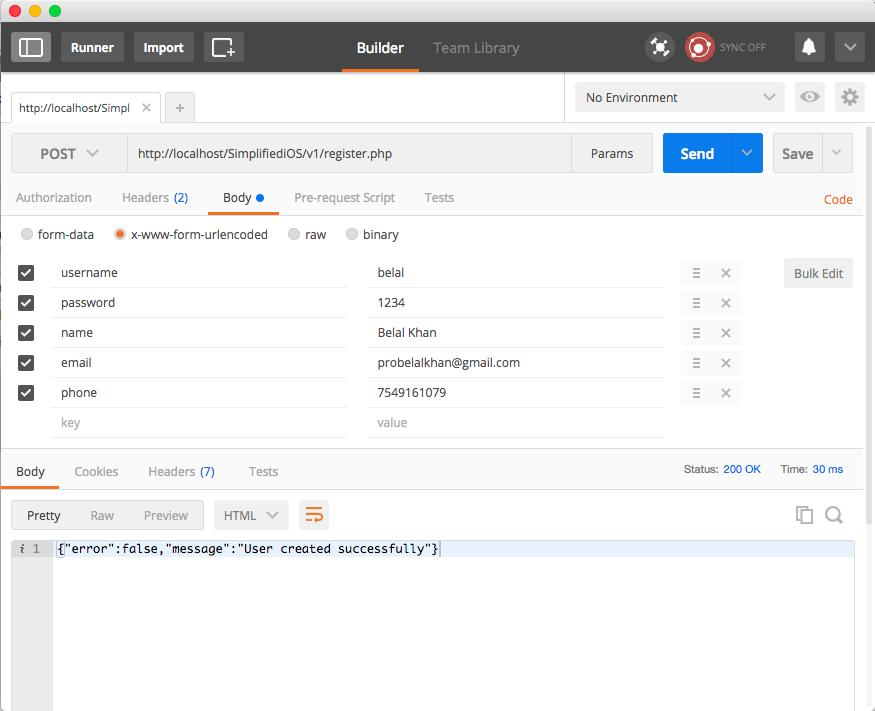button: (656, 127, 739, 179), (768, 252, 862, 294), (766, 120, 826, 179), (129, 25, 202, 69), (132, 456, 221, 492), (55, 26, 132, 64), (136, 496, 205, 535), (10, 497, 72, 532), (76, 497, 132, 535), (5, 455, 62, 492), (782, 26, 831, 67), (235, 454, 294, 488), (200, 28, 251, 64), (67, 455, 126, 485), (162, 87, 203, 124)
checkbox: (8, 348, 47, 381), (7, 380, 47, 410), (10, 257, 45, 287), (11, 287, 47, 316), (9, 323, 46, 345)
dropdown: (567, 77, 789, 115), (3, 132, 137, 182), (212, 499, 293, 535), (812, 122, 859, 183), (733, 122, 770, 184), (833, 25, 871, 69)
radiobutton: (106, 221, 274, 245), (16, 220, 101, 244), (342, 219, 407, 246), (277, 220, 341, 247)
textbox: (58, 382, 363, 414), (56, 258, 353, 290), (54, 321, 357, 352), (56, 293, 353, 323), (56, 356, 362, 382)
